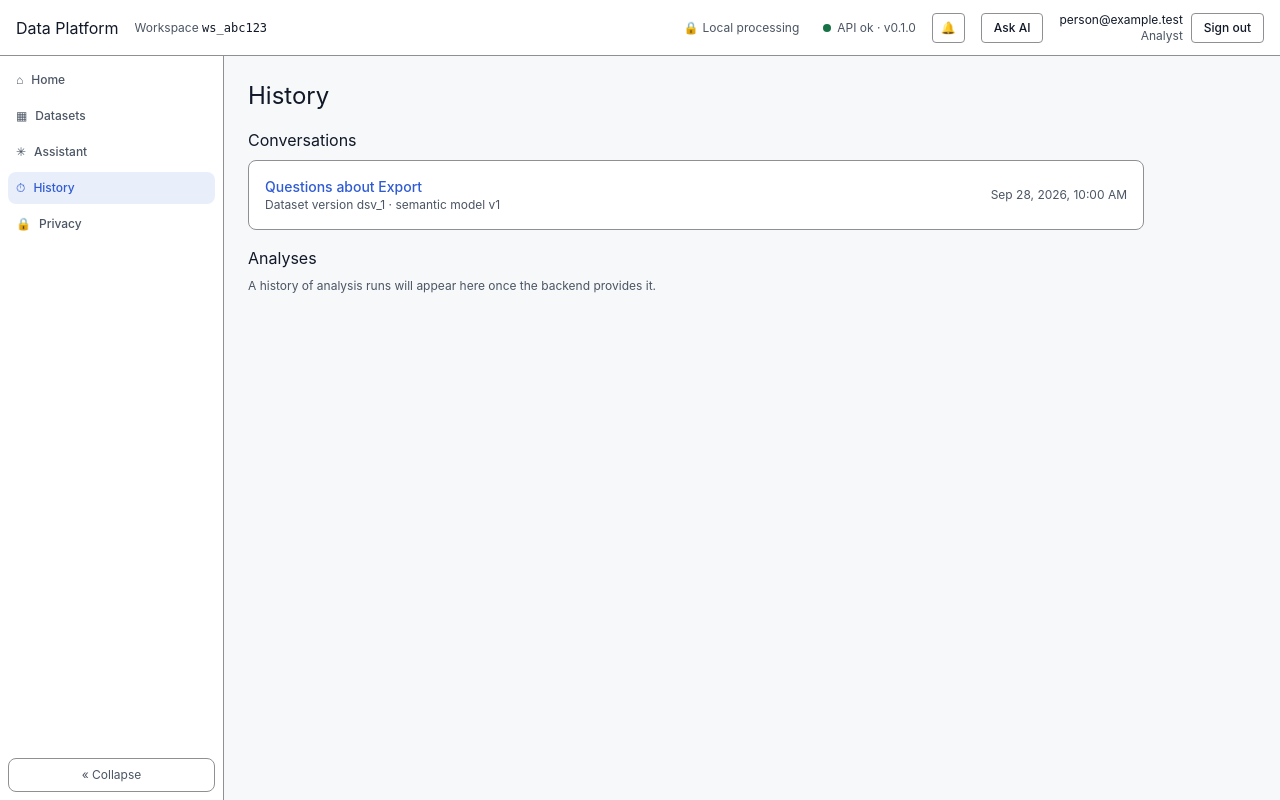
Test: AI chat › lists conversations in history and reopens one in the assistant
Click the link "Questions about Export": (344, 186) [265,178,422,195]
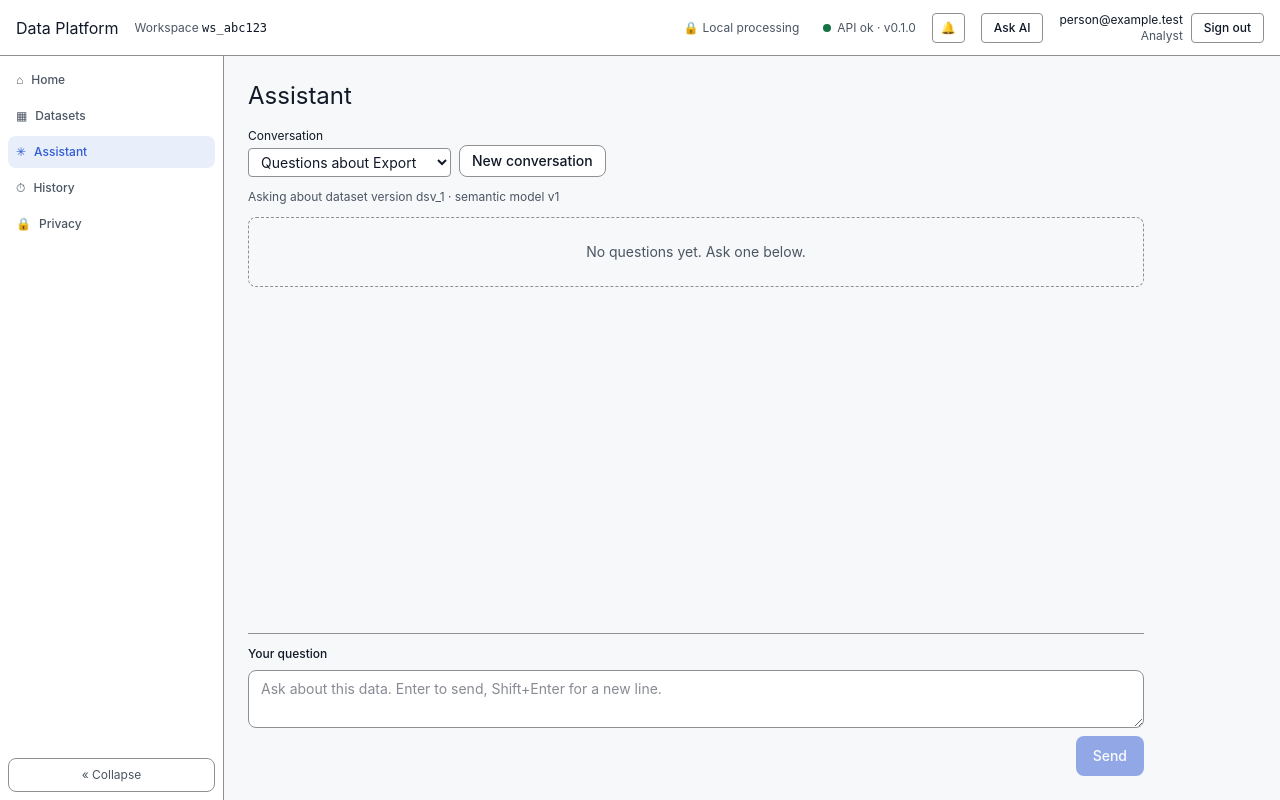
expect the text "No questions yet. Ask one below." is shown: met, box [586,242,806,262]
